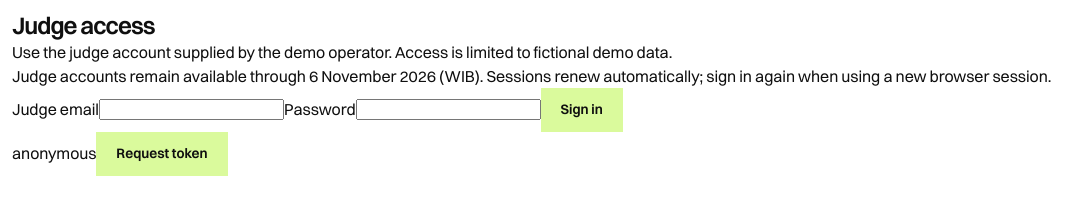
shows a generic login error and clears the password
Check: the button "Sign in" is enabled, box top-left (540, 88), bottom-right (623, 132)
Step 1. Type "judge@example.test" into the field labelled "Judge email" → (191, 110), box top-left (99, 99), bottom-right (284, 120)
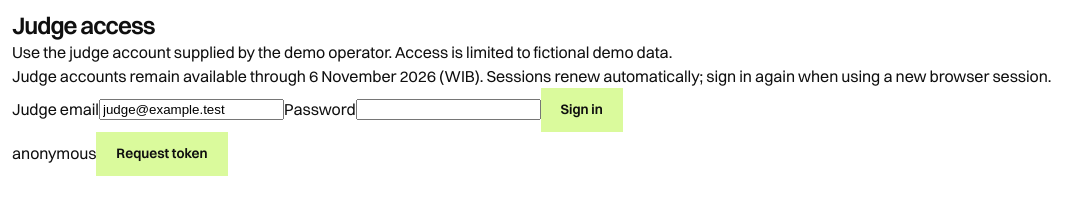
Step 2. Type "secret" into the password field labelled "Password" → (448, 110), box top-left (356, 99), bottom-right (540, 120)
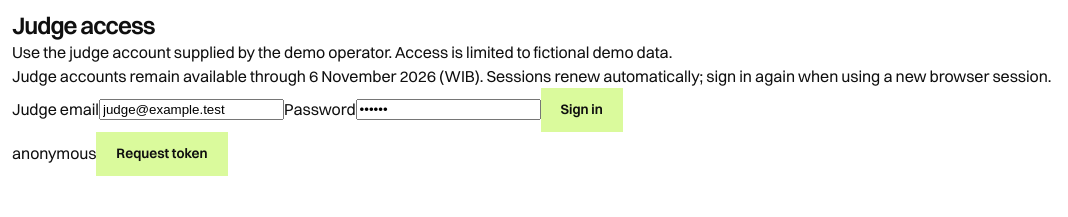
Step 3. Click the button "Sign in" → (582, 110), box top-left (540, 88), bottom-right (623, 132)
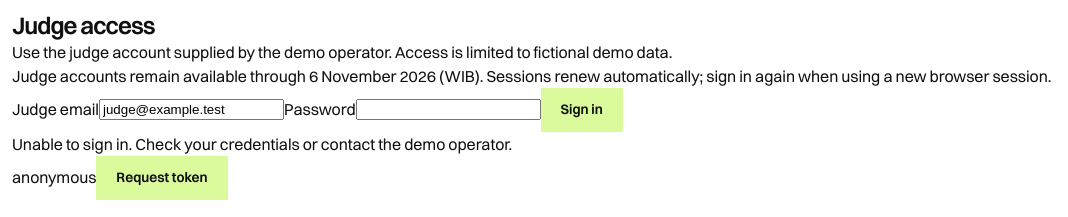
Check: the message "Unable to sign in. Check your credentials or contact the demo operator." is shown, box top-left (12, 134), bottom-right (512, 154)
Check: the password field labelled "Password" is empty, box top-left (356, 99), bottom-right (540, 120)
